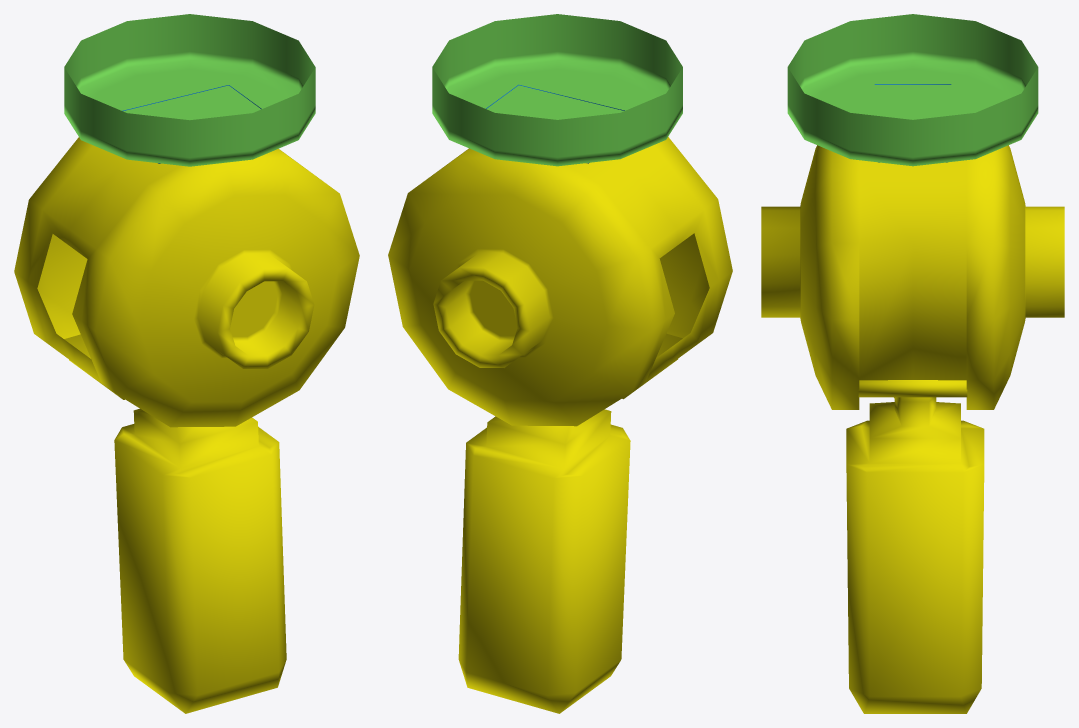
The model's file is Pipet-turret.fbx.
The picture shows the model from 3 angles, left to right: view 1: azimuth 30°, elevation 25°; view 2: azimuth 150°, elevation 25°; view 3: azimuth 270°, elevation 25°; orthographic projection.
Parts seen in each view (by area): view 1: Circle.002, Cylinder.004; view 2: Circle.002, Cylinder.004; view 3: Circle.002, Cylinder.004.
Boxes of the visible parts, x1=… form: Circle.002: x1=14, y1=137, x2=359, y2=713; Cylinder.004: x1=64, y1=14, x2=315, y2=166; Circle.002: x1=388, y1=137, x2=732, y2=713; Cylinder.004: x1=432, y1=14, x2=682, y2=166; Circle.002: x1=761, y1=145, x2=1064, y2=713; Cylinder.004: x1=787, y1=14, x2=1038, y2=166.
Bounding box in the file's own units: 149 × 335 × 149.
